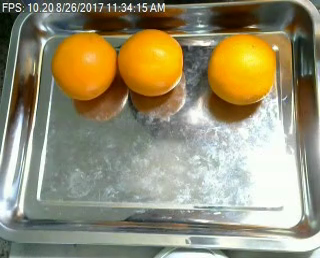Orange: (207, 34, 275, 104), (51, 31, 117, 100), (118, 29, 186, 95)
